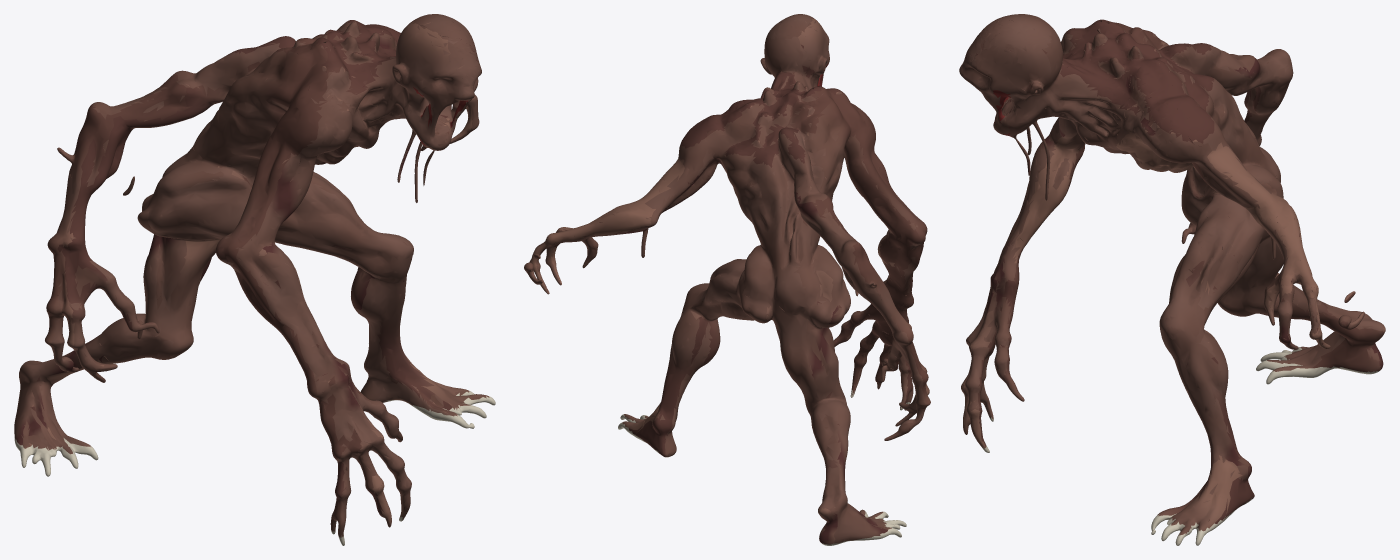
Rendered from imitator_generated_v1.glb.
The picture shows the model from 3 angles, left to right: view 1: azimuth 30°, elevation 25°; view 2: azimuth 150°, elevation 25°; view 3: azimuth 270°, elevation 25°; orthographic projection. The views are drawn at different scales.
Visible parts, largest first — view 1: Imitator_Generated; view 2: Imitator_Generated; view 3: Imitator_Generated.
Part boxes in pixels (x1,y1,x2,y2): Imitator_Generated: [14, 14, 495, 545]; Imitator_Generated: [524, 14, 930, 545]; Imitator_Generated: [959, 14, 1385, 545].
Bounding box in the file's own units: 2.23 × 2.23 × 1.84.
Materials: 3 (1 with a texture image).
